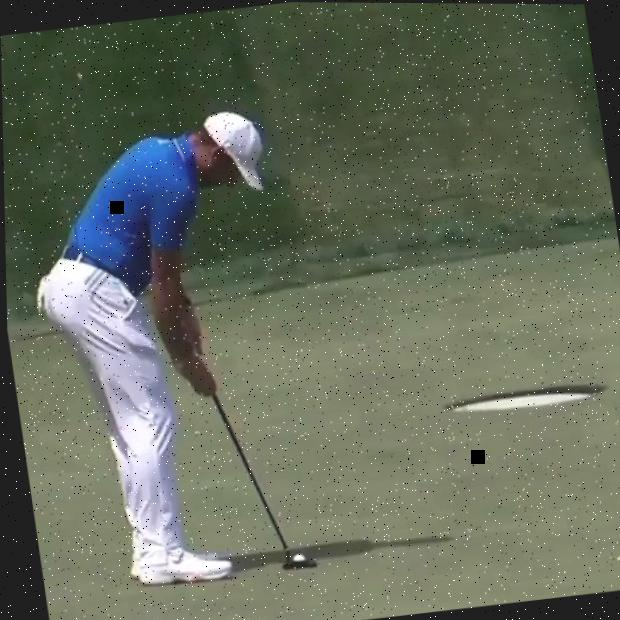ClubHead: (277, 557, 315, 571)
GolfBall: (289, 551, 304, 562)
